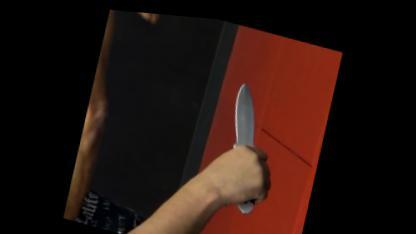knife: (207, 71, 292, 219)
